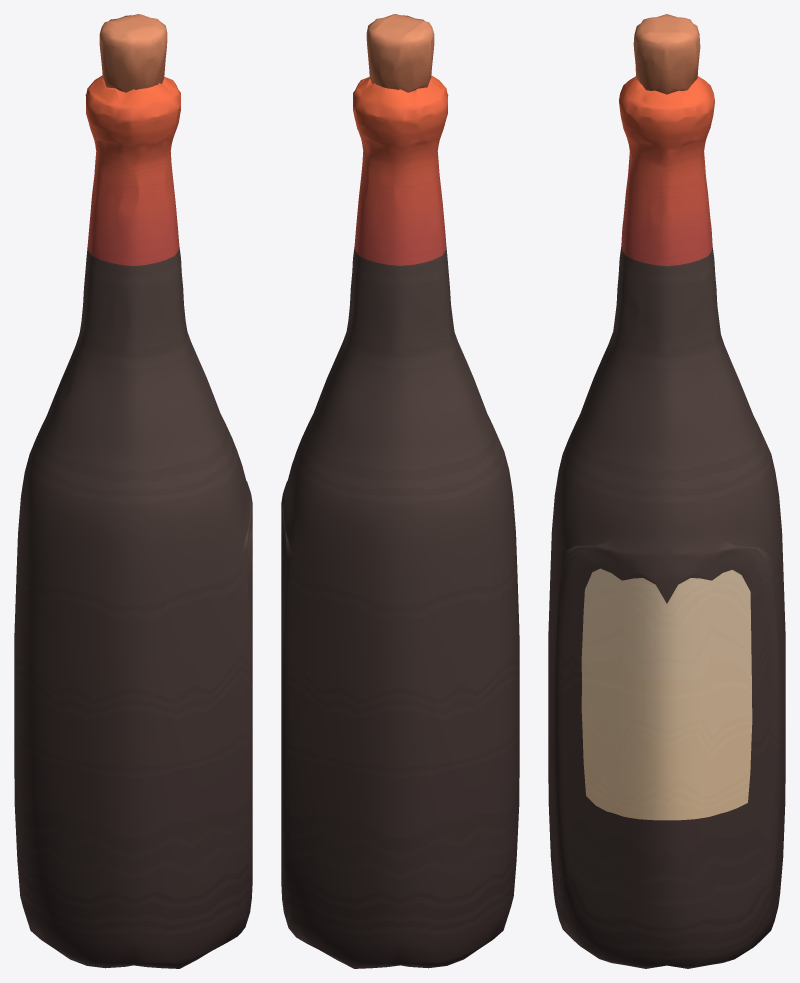
3 renders of one model, left to right at view 1: azimuth 30°, elevation 25°; view 2: azimuth 150°, elevation 25°; view 3: azimuth 270°, elevation 25°, orthographic.
Bounding box in the file's own units: 0.2526 × 0.9918 × 0.2365.
1 material, 1 textured.
